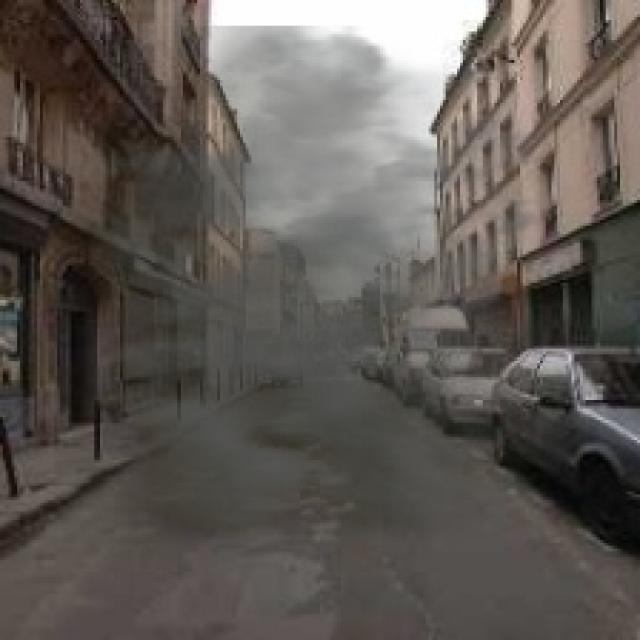smoke: (54, 26, 603, 574)
